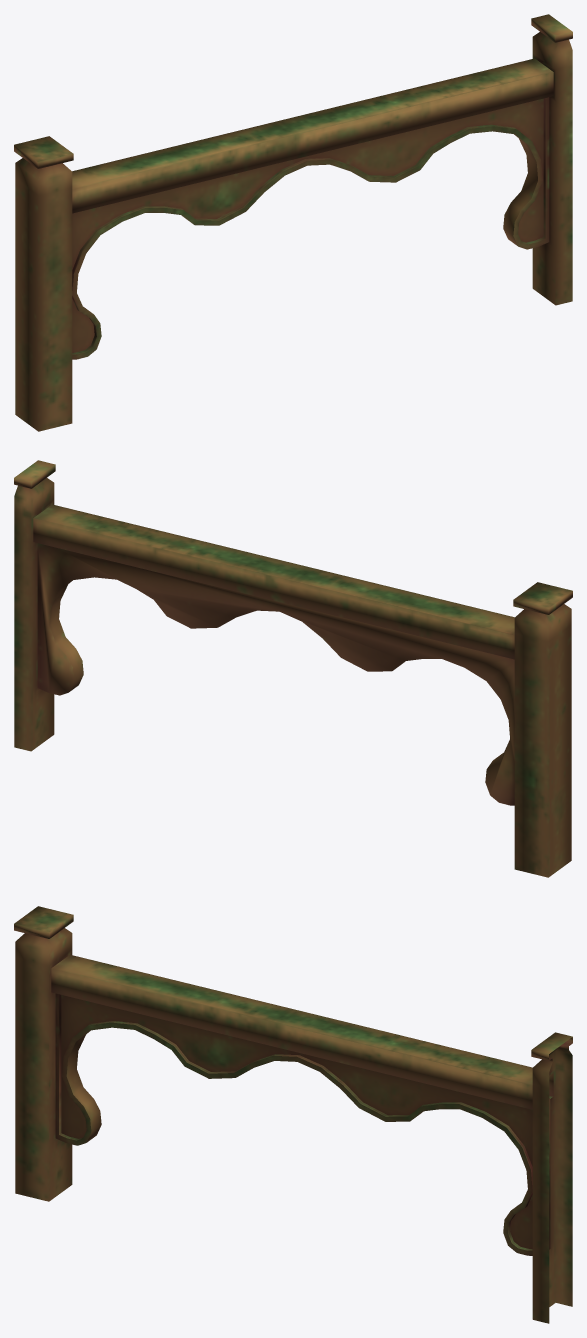
The model's file is ArchEnd.fbx.
3 renders of one model, top to bottom at view 1: azimuth 30°, elevation 25°; view 2: azimuth 150°, elevation 25°; view 3: azimuth 330°, elevation 25°, orthographic.
Parts seen in each view (by area): view 1: Cube.118; view 2: Cube.118; view 3: Cube.118.
Boxes of the visible parts, x1,y1,x2,y2 form: Cube.118: (14,14,572,431); Cube.118: (14,460,572,877); Cube.118: (14,906,572,1323).
Size of the model in its own units: 4 by 1.93 by 0.3127.
